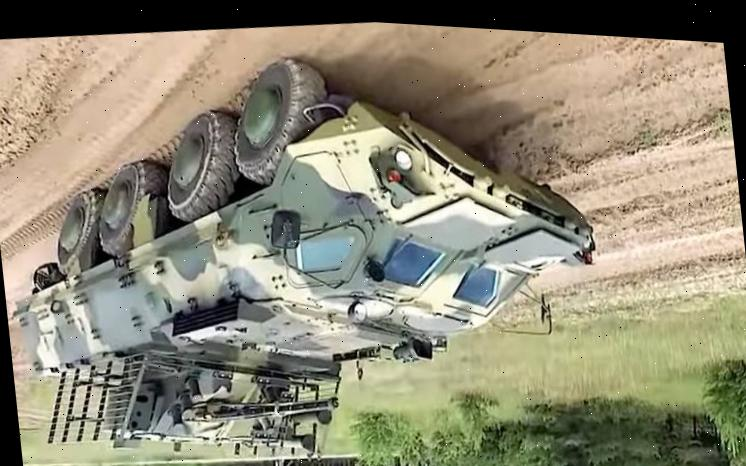armored_car: (0, 6, 621, 466)
